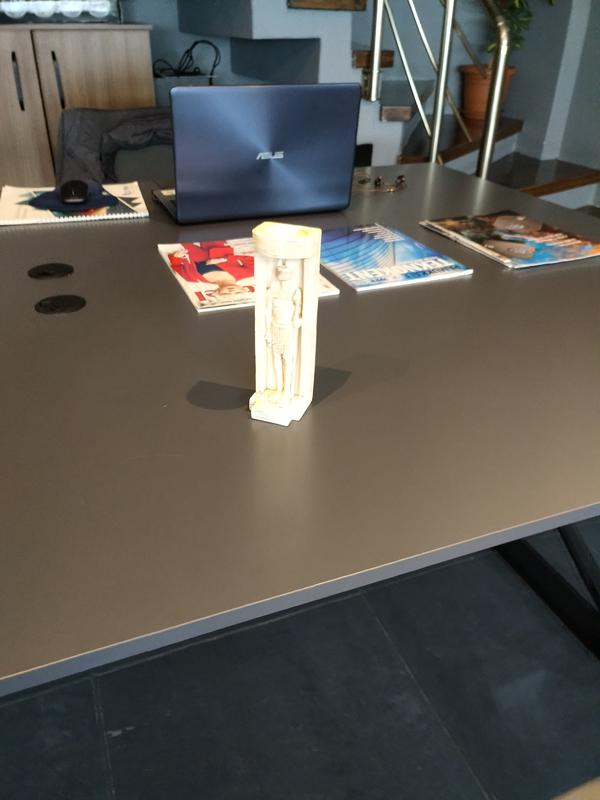heykel: (245, 216, 325, 429)
